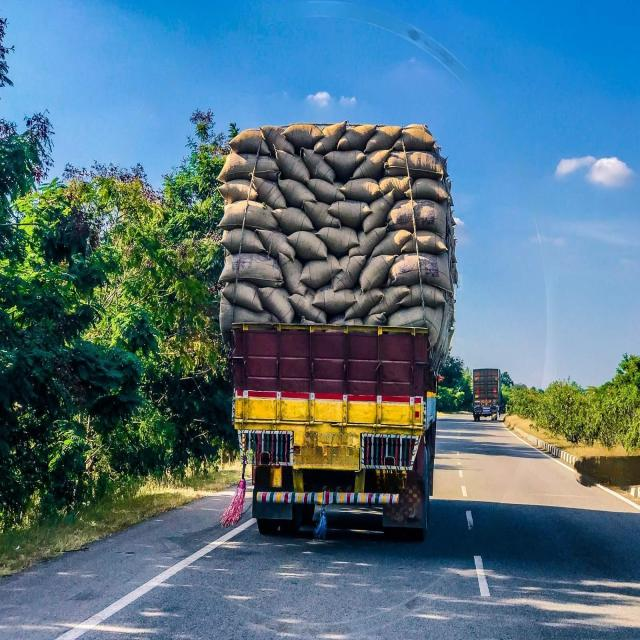truck: (219, 122, 458, 539), (474, 368, 499, 422)
